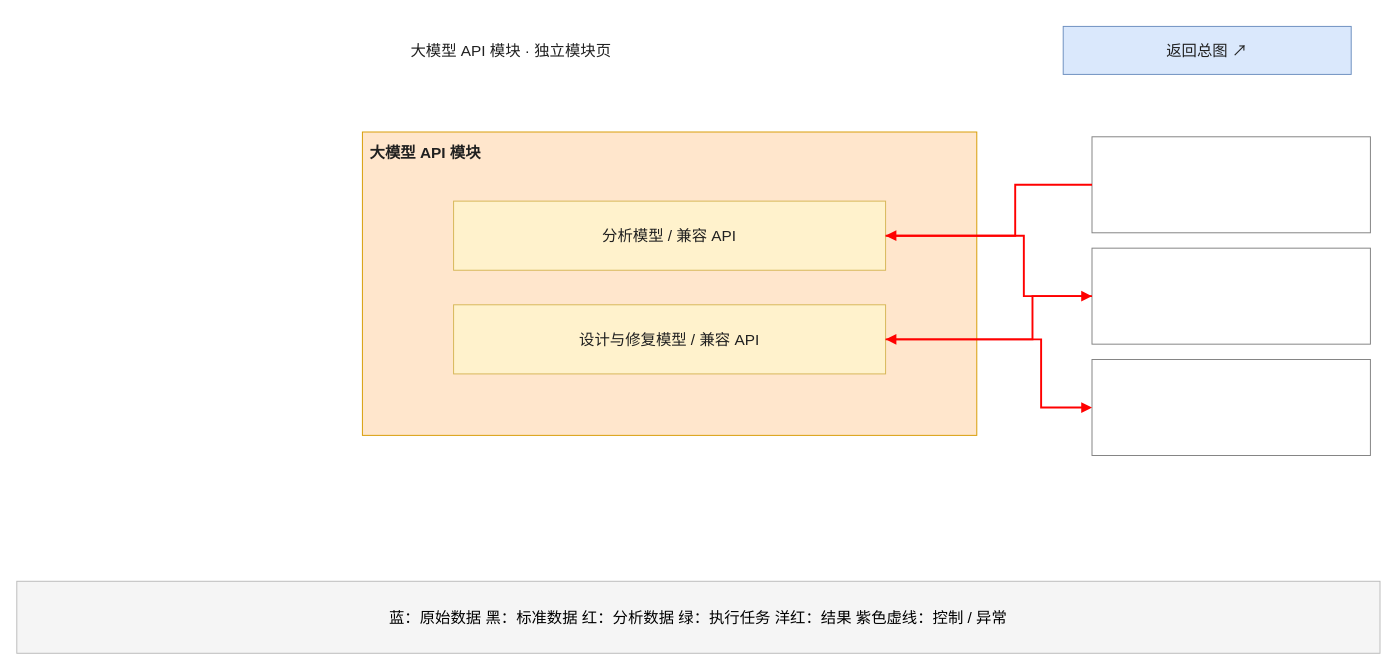
Some shapes in this 1397 by 670 pixel diagram are drawn without their labels. Here are the shapes that lost their labels. From the top down, the centre of each, then its label:
At pixel 1230 184: "外部接口 · 架构服务模块 架构分析 / 证据聚合".
At pixel 1230 295: "外部接口 · 架构服务模块 模块与数据线结构化设计".
At pixel 1230 407: "外部接口 · 架构服务模块 项目风格 / 总图 / 模块分页".
